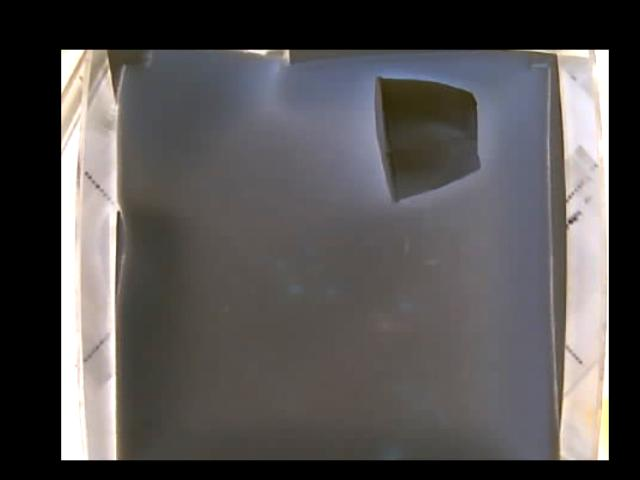Cup: (373, 76, 482, 203)
